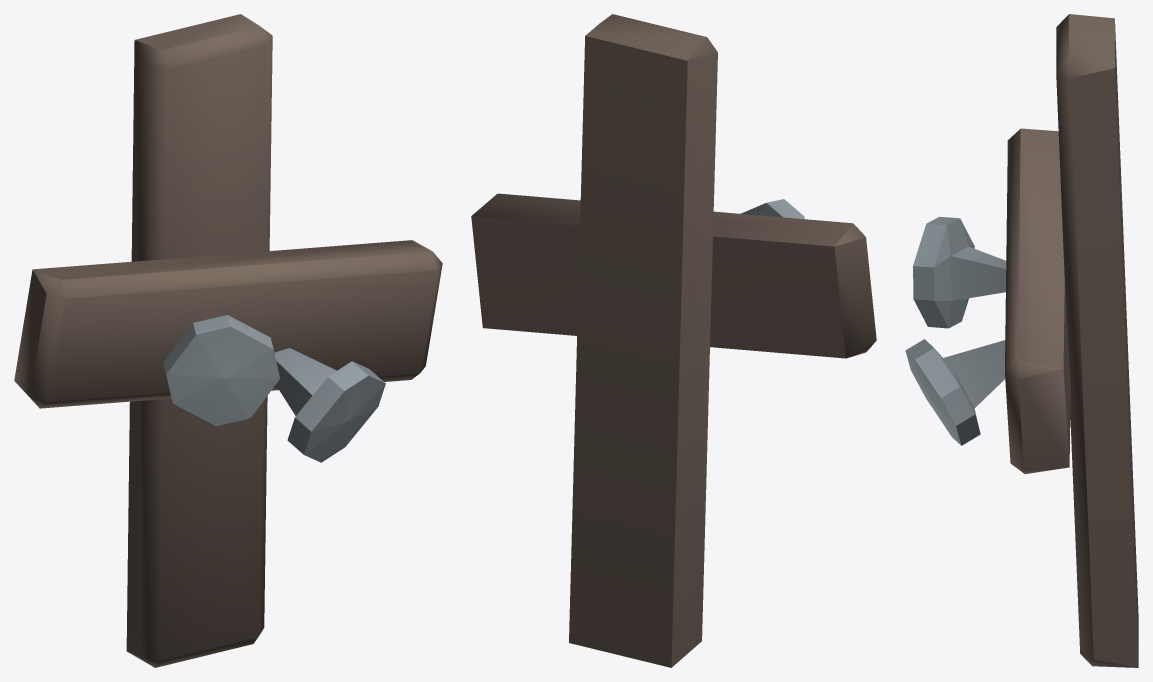
The model's file is gravemarker_B.obj.
The picture shows the model from 3 angles, left to right: view 1: azimuth 30°, elevation 25°; view 2: azimuth 150°, elevation 25°; view 3: azimuth 270°, elevation 25°; orthographic projection. The views are drawn at different scales.
Parts seen in each view (by area): view 1: gravemarker_B_Cube.123; view 2: gravemarker_B_Cube.123; view 3: gravemarker_B_Cube.123.
Boxes of the visible parts, <box> form: gravemarker_B_Cube.123: <box>14,14,442,667</box>; gravemarker_B_Cube.123: <box>471,14,876,667</box>; gravemarker_B_Cube.123: <box>905,14,1138,667</box>.
Bounding box in the file's own units: 0.8029 × 1.18 × 0.4132.
1 material, 1 textured.
